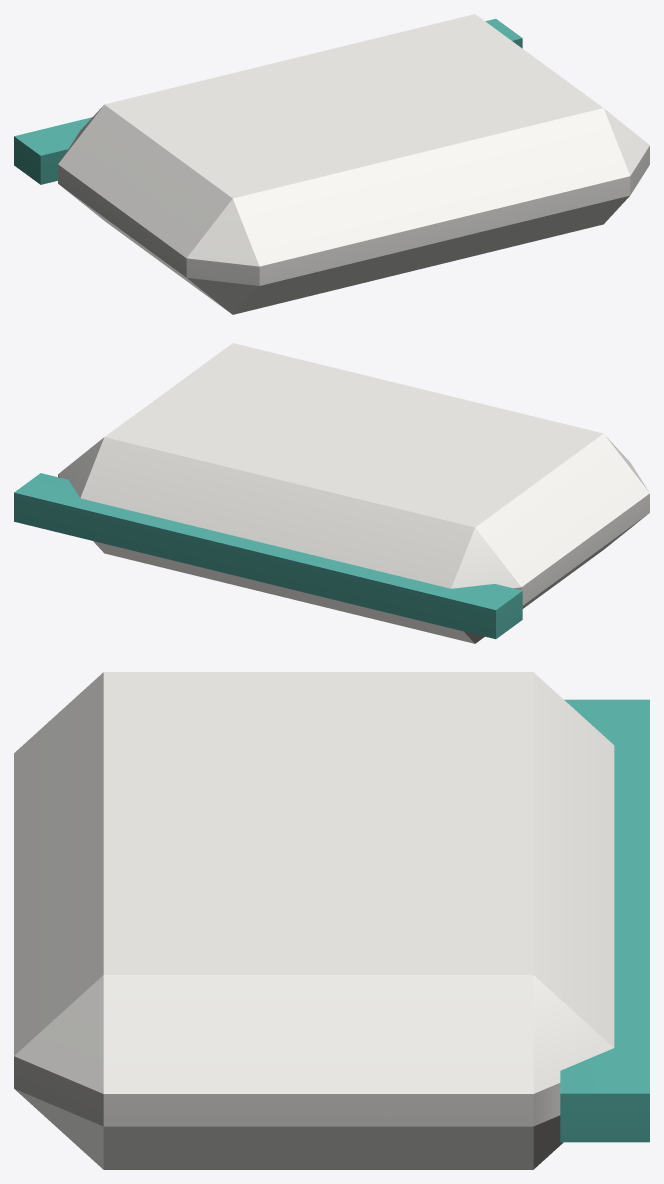
The model's file is pillow_01.glb.
The picture shows the model from 3 angles, top to bottom: view 1: azimuth 30°, elevation 25°; view 2: azimuth 150°, elevation 25°; view 3: azimuth 270°, elevation 25°; orthographic projection. The views are drawn at different scales.
Parts seen in each view (by area): view 1: pillow_01_mesh; view 2: pillow_01_mesh; view 3: pillow_01_mesh.
Part boxes in pixels (box(x1,y1,x2,y2)): pillow_01_mesh: box(14, 14, 649, 314); pillow_01_mesh: box(14, 343, 649, 643); pillow_01_mesh: box(14, 672, 649, 1169).
Bounding box in the file's own units: 0.52 × 0.12 × 0.355.
Materials: 1 (1 with a texture image).
